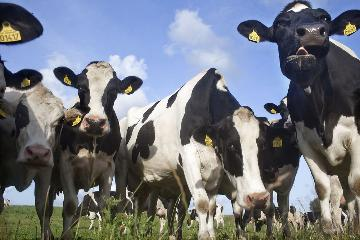cow: (144, 88, 271, 223), (264, 1, 360, 157), (64, 55, 122, 158), (6, 78, 63, 171), (265, 88, 295, 132)
